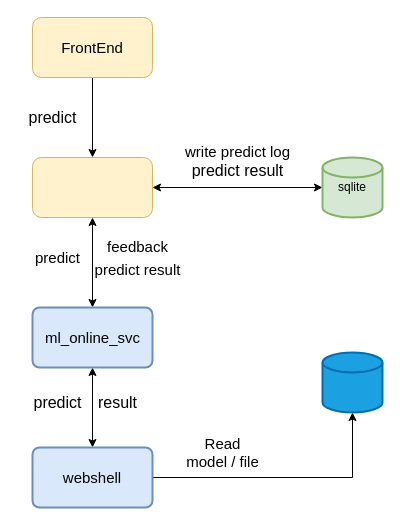
Some shapes in this 400 by 526 pixel diagram are drawn without their labels. Here are the shapes that lost their labels. From the top down, the box of each, then its label:
(32, 156, 152, 218): interface
(321, 351, 383, 413): MinIO
